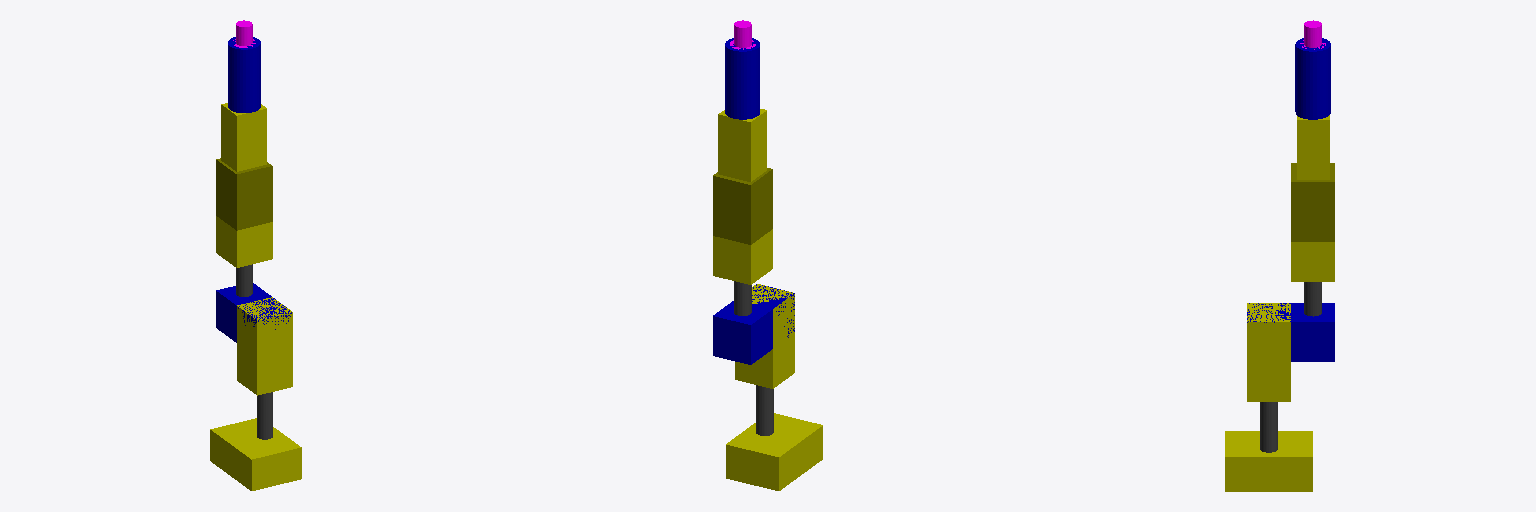
The robot description file, URDF, robot "cuarm":
<?xml version="1.0" ?>
<!-- =================================================================================== -->
<!-- |    This document was autogenerated by xacro from cuarm.xacro                    | -->
<!-- |    EDITING THIS FILE BY HAND IS NOT RECOMMENDED                                 | -->
<!-- =================================================================================== -->
<robot name="cuarm" xmlns:xacro="http://www.ros.org/wiki/xacro">
  <!-- math constants -->
  <!-- staubli geometry files are in millimeters -->
  <!-- named paths -->
  <!-- link macro -->
  <!-- Colors -->
  <!-- useful macros -->
  <link name="base_link">
    <visual>
      <geometry>
        <cylinder length="0.0" radius="0.02"/>
      </geometry>
      <material name="gray">
        <color rgba="0.5 0.5 0.5 1.0"/>
      </material>
      <origin rpy="0 0 0" xyz="0 0 0.0"/>
    </visual>
    <collision>
      <geometry>
        <cylinder length="0.0" radius="0.02"/>
      </geometry>
      <origin rpy="0 0 0" xyz="0 0 0.0"/>
    </collision>
  </link>
  <joint name="base_joint" type="fixed">
    <origin rpy="0 0 0" xyz="0 0 0"/>
    <parent link="base_link"/>
    <child link="base_box"/>
  </joint>
  <link name="base_box">
    <visual>
      <geometry>
        <box size="0.14 0.2 0.085"/>
      </geometry>
      <material name="yellow">
        <color rgba="0.75 0.75 0 1.0"/>
      </material>
      <origin rpy="0 0 0" xyz="0 0 0.0425"/>
    </visual>
    <collision>
      <geometry>
        <box size="0.14 0.2 0.085"/>
      </geometry>
      <origin rpy="0 0 0" xyz="0 0 0.0425"/>
    </collision>
  </link>
  <joint name="base_rotate" type="revolute">
    <origin rpy="0 0 0" xyz="0.025 0 0.085"/>
    <axis xyz="0 0 1"/>
    <parent link="base_box"/>
    <child link="carbon_fiber_link"/>
    <limit effort="1.0" lower="-1.57" upper="1.57" velocity="0.3"/>
  </joint>
  <link name="carbon_fiber_link">
    <visual>
      <geometry>
        <cylinder length="0.14" radius="0.02"/>
      </geometry>
      <material name="dark_gray">
        <color rgba="0.3 0.3 0.3 1.0"/>
      </material>
      <origin rpy="0 0 0" xyz="0 0 0.07"/>
    </visual>
    <collision>
      <geometry>
        <cylinder length="0.14" radius="0.02"/>
      </geometry>
      <origin rpy="0 0 0" xyz="0 0 0.07"/>
    </collision>
  </link>
  <joint name="fixed_link_to_elbow" type="fixed">
    <origin rpy="0 0 0" xyz="0 0 0.14"/>
    <parent link="carbon_fiber_link"/>
    <child link="elbow_link_vertical"/>
  </joint>
  <link name="elbow_link_vertical">
    <visual>
      <geometry>
        <box size="0.1 0.1 0.2"/>
      </geometry>
      <material name="yellow">
        <color rgba="0.75 0.75 0 1.0"/>
      </material>
      <origin rpy="0 0 0" xyz="0 0 0.1"/>
    </visual>
    <collision>
      <geometry>
        <box size="0.1 0.1 0.2"/>
      </geometry>
      <origin rpy="0 0 0" xyz="0 0 0.1"/>
    </collision>
  </link>
  <joint name="fixed_elbow_internal" type="fixed">
    <origin rpy="0 0 0" xyz="0 0.05 0.10"/>
    <parent link="elbow_link_vertical"/>
    <child link="elbow_link_horizontal"/>
  </joint>
  <link name="elbow_link_horizontal">
    <visual>
      <geometry>
        <box size="0.1 0.2 0.1"/>
      </geometry>
      <material name="blue">
        <color rgba="0 0 0.75 1.0"/>
      </material>
      <origin rpy="0 0 0" xyz="0 0 0.05"/>
    </visual>
    <collision>
      <geometry>
        <box size="0.1 0.2 0.1"/>
      </geometry>
      <origin rpy="0 0 0" xyz="0 0 0.05"/>
    </collision>
  </link>
  <joint name="elbow_lift" type="revolute">
    <origin rpy="0 0 0" xyz="0 0.05 0.10"/>
    <axis xyz="1 0 0"/>
    <parent link="elbow_link_horizontal"/>
    <child link="carbon_fiber_link_2"/>
    <limit effort="1.0" lower="-2.09" upper="0.52" velocity="0.3"/>
  </joint>
  <link name="carbon_fiber_link_2">
    <visual>
      <geometry>
        <cylinder length="0.1" radius="0.02"/>
      </geometry>
      <material name="dark_gray">
        <color rgba="0.3 0.3 0.3 1.0"/>
      </material>
      <origin rpy="0 0 0" xyz="0 0 0.05"/>
    </visual>
    <collision>
      <geometry>
        <cylinder length="0.1" radius="0.02"/>
      </geometry>
      <origin rpy="0 0 0" xyz="0 0 0.05"/>
    </collision>
  </link>
  <joint name="fixed_link_to_wrist" type="fixed">
    <origin rpy="0 0 0" xyz="0 0 0.10"/>
    <parent link="carbon_fiber_link_2"/>
    <child link="wrist_base_link"/>
  </joint>
  <link name="wrist_base_link">
    <visual>
      <geometry>
        <box size="0.1 0.1 0.1"/>
      </geometry>
      <material name="yellow">
        <color rgba="0.75 0.75 0 1.0"/>
      </material>
      <origin rpy="0 0 0" xyz="0 0 0.05"/>
    </visual>
    <collision>
      <geometry>
        <box size="0.1 0.1 0.1"/>
      </geometry>
      <origin rpy="0 0 0" xyz="0 0 0.05"/>
    </collision>
  </link>
  <joint name="wrist_rotate" type="revolute">
    <origin rpy="0 0 0" xyz="0 0 0.10"/>
    <axis xyz="0 0 1"/>
    <parent link="wrist_base_link"/>
    <child link="differential_link"/>
    <limit effort="1.0" lower="-1.57" upper="1.57" velocity="0.3"/>
  </joint>
  <link name="differential_link">
    <visual>
      <geometry>
        <box size="0.1 0.1 0.15"/>
      </geometry>
      <material name="olive">
        <color rgba="0.5 0.5 0 1.0"/>
      </material>
      <origin rpy="0 0 0" xyz="0 0 0.075"/>
    </visual>
    <collision>
      <geometry>
        <box size="0.1 0.1 0.15"/>
      </geometry>
      <origin rpy="0 0 0" xyz="0 0 0.075"/>
    </collision>
  </link>
  <joint name="differential_rotate" type="revolute">
    <origin rpy="0 0 0" xyz="0 0 0.105"/>
    <axis xyz="0 0 1"/>
    <parent link="differential_link"/>
    <child link="diff_crossbar"/>
    <limit effort="1.0" lower="-1.57" upper="1.57" velocity="0.3"/>
  </joint>
  <link name="diff_crossbar">
    <visual>
      <geometry>
        <box size="0.0 0.0 0.0"/>
      </geometry>
      <material name="olive">
        <color rgba="0.5 0.5 0 1.0"/>
      </material>
      <origin rpy="0 0 0" xyz="0 0 0.0"/>
    </visual>
    <collision>
      <geometry>
        <box size="0.0 0.0 0.0"/>
      </geometry>
      <origin rpy="0 0 0" xyz="0 0 0.0"/>
    </collision>
  </link>
  <joint name="differential_lift" type="revolute">
    <origin rpy="0 0 0" xyz="0 0 0"/>
    <axis xyz="1 0 0"/>
    <parent link="diff_crossbar"/>
    <child link="gripper_connect_link"/>
    <limit effort="1.0" lower="-1.57" upper="1.57" velocity="0.3"/>
  </joint>
  <link name="gripper_connect_link">
    <visual>
      <geometry>
        <cylinder length="0.045" radius="0.005"/>
      </geometry>
      <material name="gray">
        <color rgba="0.5 0.5 0.5 1.0"/>
      </material>
      <origin rpy="0 0 0" xyz="0 0 0.0225"/>
    </visual>
    <collision>
      <geometry>
        <cylinder length="0.045" radius="0.005"/>
      </geometry>
      <origin rpy="0 0 0" xyz="0 0 0.0225"/>
    </collision>
  </link>
  <joint name="fixed_link_to_gripper" type="fixed">
    <origin rpy="0 0 0" xyz="0 0 0.045"/>
    <parent link="gripper_connect_link"/>
    <child link="gripper_frame"/>
  </joint>
  <link name="gripper_frame">
    <visual>
      <geometry>
        <box size="0.085 0.075 0.15"/>
      </geometry>
      <material name="yellow">
        <color rgba="0.75 0.75 0 1.0"/>
      </material>
      <origin rpy="0 0 0" xyz="0 0 0.075"/>
    </visual>
    <collision>
      <geometry>
        <box size="0.085 0.075 0.15"/>
      </geometry>
      <origin rpy="0 0 0" xyz="0 0 0.075"/>
    </collision>
  </link>
  <joint name="fixed_link_to_hand" type="fixed">
    <origin rpy="0 0 0" xyz="0 0 0.15"/>
    <parent link="gripper_frame"/>
    <child link="gripper_hand"/>
  </joint>
  <link name="gripper_hand">
    <visual>
      <geometry>
        <cylinder length="0.17" radius="0.04"/>
      </geometry>
      <material name="blue">
        <color rgba="0 0 0.75 1.0"/>
      </material>
      <origin rpy="0 0 0" xyz="0 0 0.085"/>
    </visual>
    <collision>
      <geometry>
        <cylinder length="0.17" radius="0.04"/>
      </geometry>
      <origin rpy="0 0 0" xyz="0 0 0.085"/>
    </collision>
  </link>
  <joint name="dummy_joint" type="revolute">
    <origin rpy="0 0 0" xyz="0 0 0.17"/>
    <axis xyz="1 0 0"/>
    <parent link="gripper_hand"/>
    <child link="gripper_dummy_link"/>
    <limit effort="1.0" lower="-1.57" upper="1.57" velocity="0.3"/>
  </joint>
  <link name="gripper_dummy_link">
    <visual>
      <geometry>
        <cylinder length="0.0" radius="0.03"/>
      </geometry>
      <material name="magenta">
        <color rgba="1.0 0 1.0 0.5"/>
      </material>
      <origin rpy="0 0 0" xyz="0 0 0.0"/>
    </visual>
    <collision>
      <geometry>
        <cylinder length="0.0" radius="0.03"/>
      </geometry>
      <origin rpy="0 0 0" xyz="0 0 0.0"/>
    </collision>
  </link>
  <joint name="fixed_link_to_tip" type="fixed">
    <origin rpy="0 0 0" xyz="0 0 0"/>
    <parent link="gripper_dummy_link"/>
    <child link="gripper_tip"/>
  </joint>
  <link name="gripper_tip">
    <visual>
      <geometry>
        <cylinder length="0.05" radius="0.02"/>
      </geometry>
      <material name="magenta">
        <color rgba="1.0 0 1.0 0.5"/>
      </material>
      <origin rpy="0 0 0" xyz="0 0 0.025"/>
    </visual>
    <collision>
      <geometry>
        <cylinder length="0.05" radius="0.02"/>
      </geometry>
      <origin rpy="0 0 0" xyz="0 0 0.025"/>
    </collision>
  </link>
</robot>

--- Render facts (derived) ---
3 views of the same robot in one strip: view 1: azimuth 30°, elevation 25°; view 2: azimuth 150°, elevation 25°; view 3: azimuth 270°, elevation 25° (orthographic).
Robot: cuarm — 14 links, 13 joints (6 revolute, 7 fixed); root link base_link; default pose: all joints at 0.
Visible links, largest first — view 1: base_box, elbow_link_vertical, differential_link, gripper_frame, gripper_hand, wrist_base_link, elbow_link_horizontal, carbon_fiber_link; view 2: base_box, differential_link, elbow_link_horizontal, gripper_frame, elbow_link_vertical, gripper_hand, wrist_base_link, carbon_fiber_link, carbon_fiber_link_2; view 3: base_box, elbow_link_vertical, differential_link, gripper_hand, elbow_link_horizontal, gripper_frame, wrist_base_link, carbon_fiber_link, carbon_fiber_link_2.
Link boxes in pixels (x1,y1,x2,y2): base_box: (210,418,301,490); elbow_link_vertical: (237,297,292,395); differential_link: (216,158,272,230); gripper_frame: (221,103,266,171); gripper_hand: (228,37,260,112); wrist_base_link: (216,216,272,267); elbow_link_horizontal: (216,283,291,342); carbon_fiber_link: (257,392,272,439); base_box: (726,413,822,490); differential_link: (713,168,772,244); elbow_link_horizontal: (713,284,794,364); gripper_frame: (718,109,766,181); elbow_link_vertical: (735,284,794,388); gripper_hand: (725,38,759,119); wrist_base_link: (713,229,772,284); carbon_fiber_link: (756,385,773,435); carbon_fiber_link_2: (734,281,751,315); base_box: (1225,431,1312,491); elbow_link_vertical: (1247,303,1290,401); differential_link: (1291,163,1334,241); gripper_hand: (1295,38,1330,119); elbow_link_horizontal: (1247,303,1334,361); gripper_frame: (1297,115,1329,179); wrist_base_link: (1291,242,1334,281); carbon_fiber_link: (1260,402,1277,452); carbon_fiber_link_2: (1304,282,1321,316).
Size in the robot's own frame: 0.145 by 0.25 by 1.15 metres.
Geometry: primitives only (box / cylinder / sphere), no mesh files.